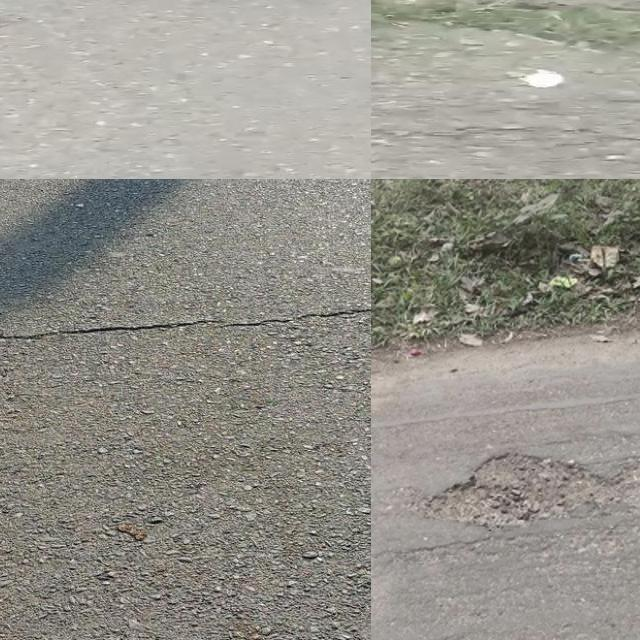Lubang: (430, 462, 640, 529)
Melintang: (0, 299, 371, 365)
